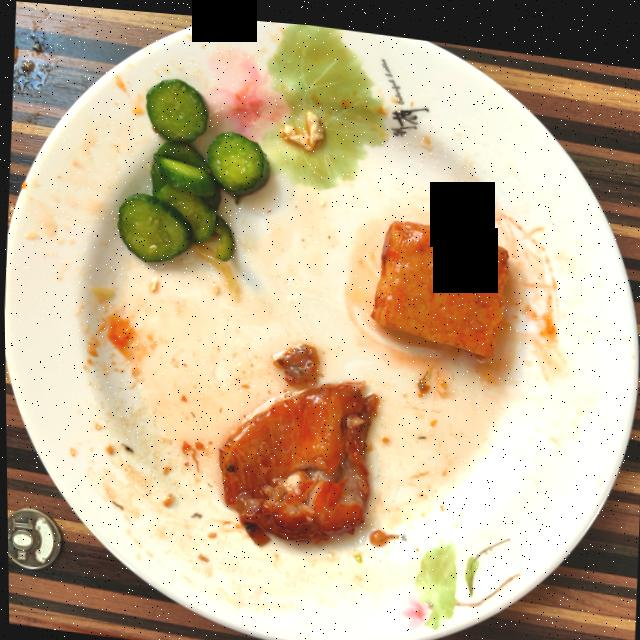Kabayaki sea bream fillet: (218, 376, 377, 541)
coin: (6, 507, 59, 568)
creamy tofu: (370, 214, 508, 352)
cucumber: (117, 75, 269, 259)
